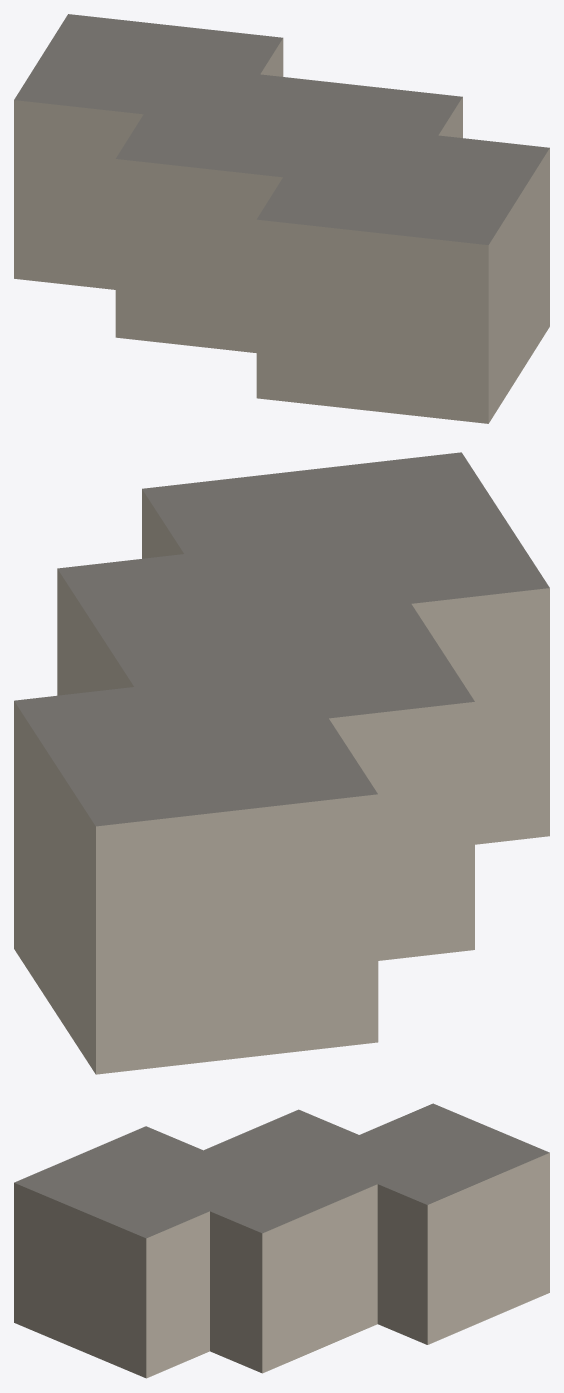
The picture shows the model from 3 angles, top to bottom: view 1: azimuth 30°, elevation 25°; view 2: azimuth 150°, elevation 25°; view 3: azimuth 270°, elevation 25°; orthographic projection. The views are drawn at different scales.
Parts seen in each view (by area): view 1: HP-w408450630; view 2: HP-w408450630; view 3: HP-w408450630.
Boxes of the visible parts, <box> form: HP-w408450630: <box>14,14,549,423</box>; HP-w408450630: <box>14,452,549,1074</box>; HP-w408450630: <box>14,1103,549,1378</box>.
Bounding box in the file's own units: 37.21 × 18 × 62.42.
